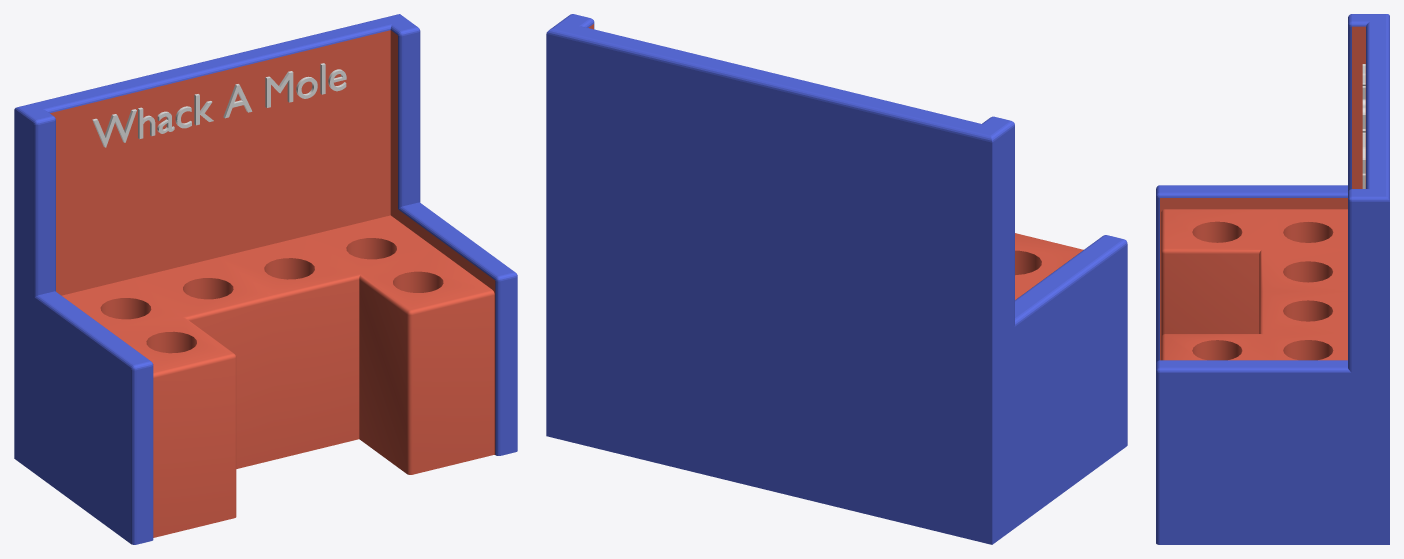
Rendered from whack_a_mole_refait.fbx.
3 renders of one model, left to right at view 1: azimuth 30°, elevation 25°; view 2: azimuth 150°, elevation 25°; view 3: azimuth 270°, elevation 25°, orthographic. The views are drawn at different scales.
Visible parts, largest first — view 1: Cube.002, Cube.001, Texte; view 2: Cube.002, Cube.001; view 3: Cube.002, Cube.001, Texte.
Boxes of the visible parts, <box> form: Cube.002: <box>14,14,517,544</box>; Cube.001: <box>62,215,494,537</box>; Texte: <box>92,63,346,147</box>; Cube.002: <box>546,14,1127,544</box>; Cube.001: <box>1015,233,1083,299</box>; Cube.002: <box>1156,14,1389,544</box>; Cube.001: <box>1161,209,1347,360</box>; Texte: <box>1362,64,1365,188</box>.
Bounding box in the file's own units: 547 × 291 × 477.
